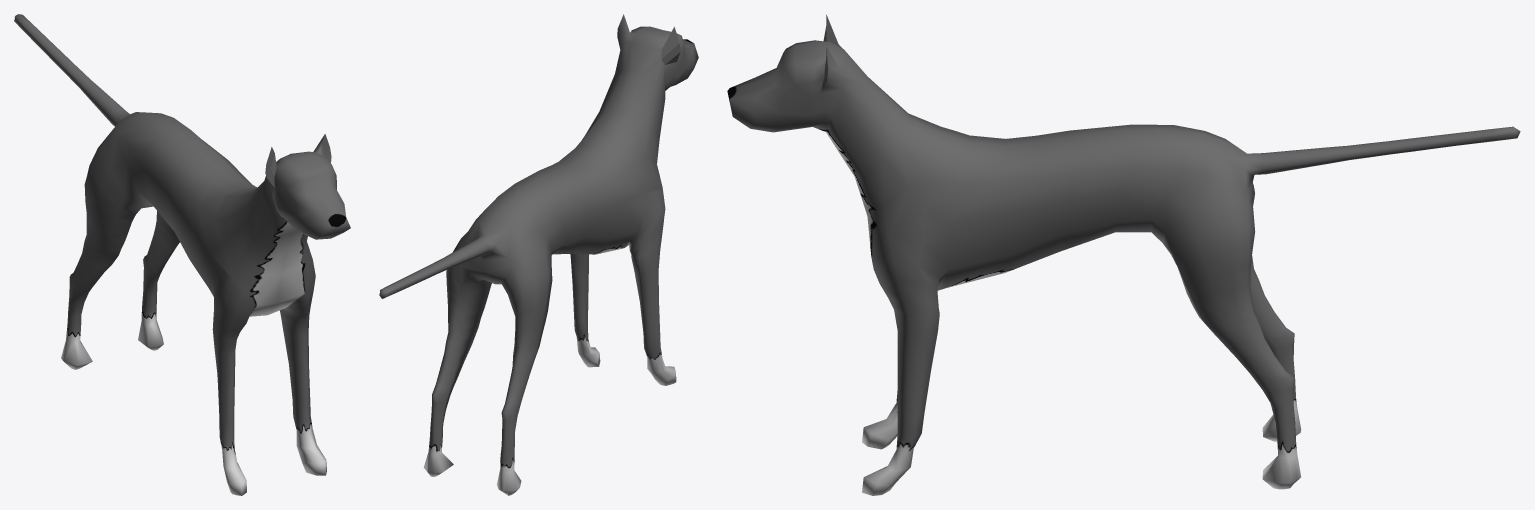
Rendered from Dog_model.fbx.
3 renders of one model, left to right at view 1: azimuth 30°, elevation 25°; view 2: azimuth 150°, elevation 25°; view 3: azimuth 270°, elevation 25°, orthographic. The views are drawn at different scales.
Visible parts, largest first — view 1: pCube3; view 2: pCube3; view 3: pCube3.
Part boxes in pixels (x1,y1,x2,y2): pCube3: (14, 14, 350, 495); pCube3: (379, 14, 698, 495); pCube3: (727, 14, 1520, 495).
Size of the model in its own units: 103 by 353 by 581.
